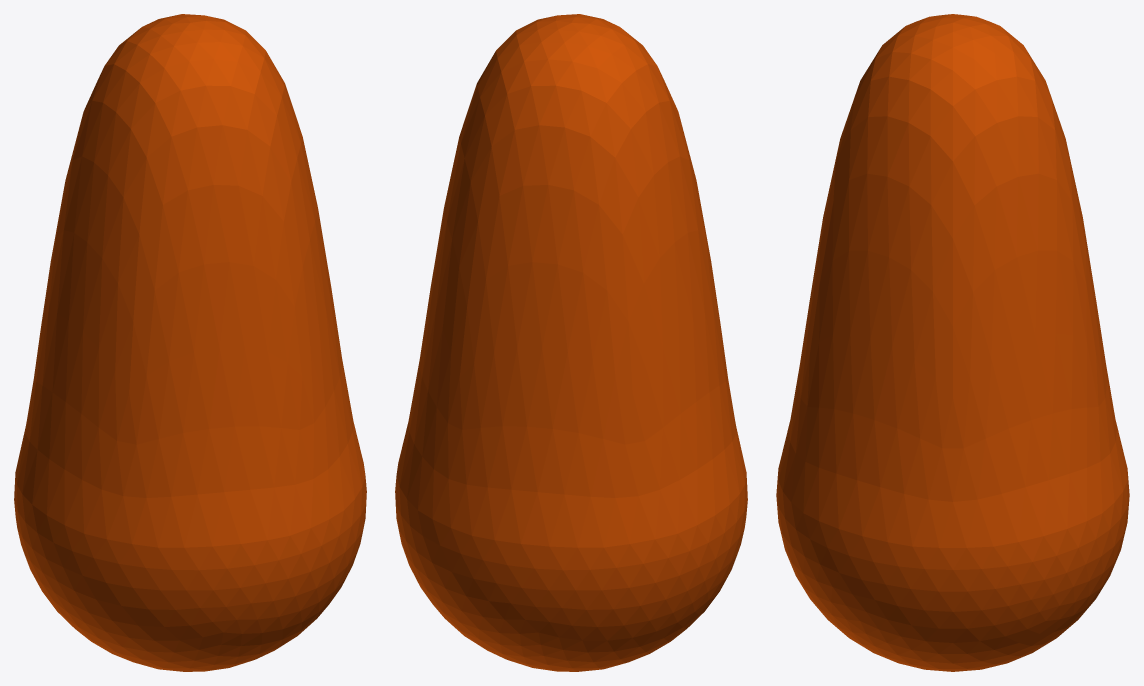
File: bouy.obj
3 views of the same model, side by side, from view 1: azimuth 30°, elevation 25°; view 2: azimuth 150°, elevation 25°; view 3: azimuth 270°, elevation 25° (orthographic).
Parts seen in each view (by area): view 1: Icosphere; view 2: Icosphere; view 3: Icosphere.
Boxes of the visible parts, x1=… form: Icosphere: x1=14, y1=14, x2=366, y2=671; Icosphere: x1=395, y1=14, x2=747, y2=671; Icosphere: x1=776, y1=14, x2=1129, y2=671.
Bounding box in the file's own units: 20 × 39.52 × 20.
